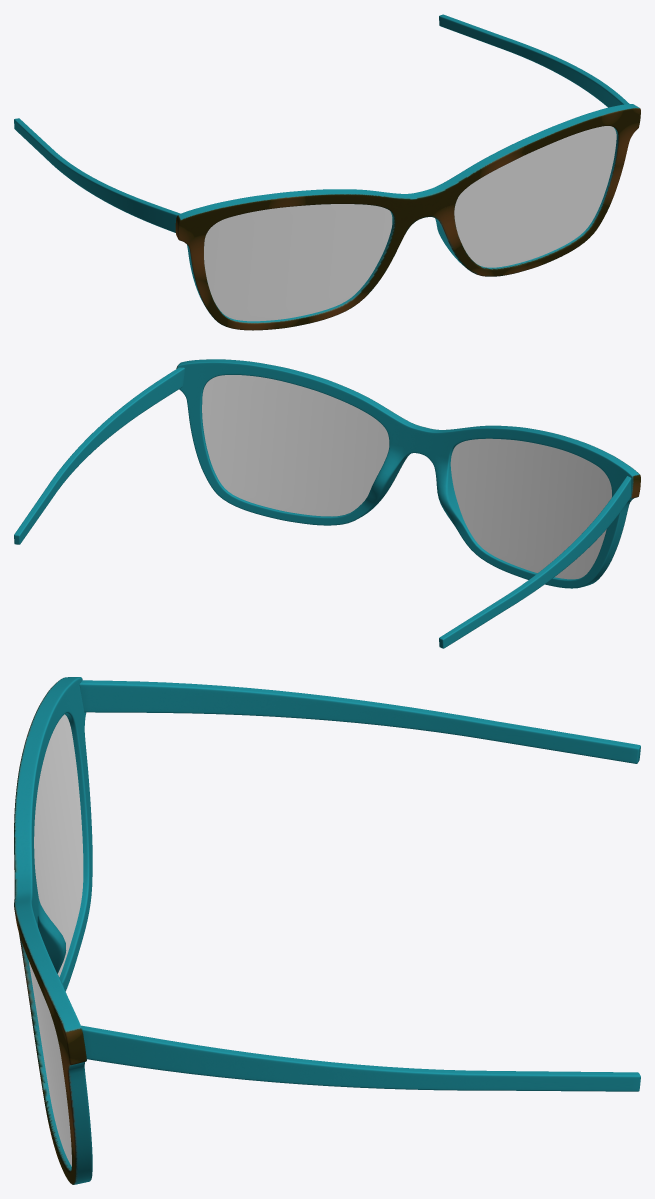
File: RB7108LApp.glb
3 views of the same model, one above another, from view 1: azimuth 30°, elevation 25°; view 2: azimuth 150°, elevation 25°; view 3: azimuth 270°, elevation 25° (orthographic). The views are drawn at different scales.
Visible parts, largest first — view 1: Lentes, Armacao; view 2: Lentes, Armacao; view 3: Armacao, Lentes.
Boxes of the visible parts, left/top/right/bottom form: Lentes: left=204, top=126, right=616, bottom=321; Armacao: left=14, top=14, right=640, bottom=330; Lentes: left=202, top=375, right=611, bottom=579; Armacao: left=14, top=359, right=640, bottom=648; Armacao: left=14, top=677, right=640, bottom=1184; Lentes: left=29, top=714, right=83, bottom=1166.
Size of the model in its own units: 0.1603 by 0.0454 by 0.1147.
Materials: 2 (2 with a texture image).
